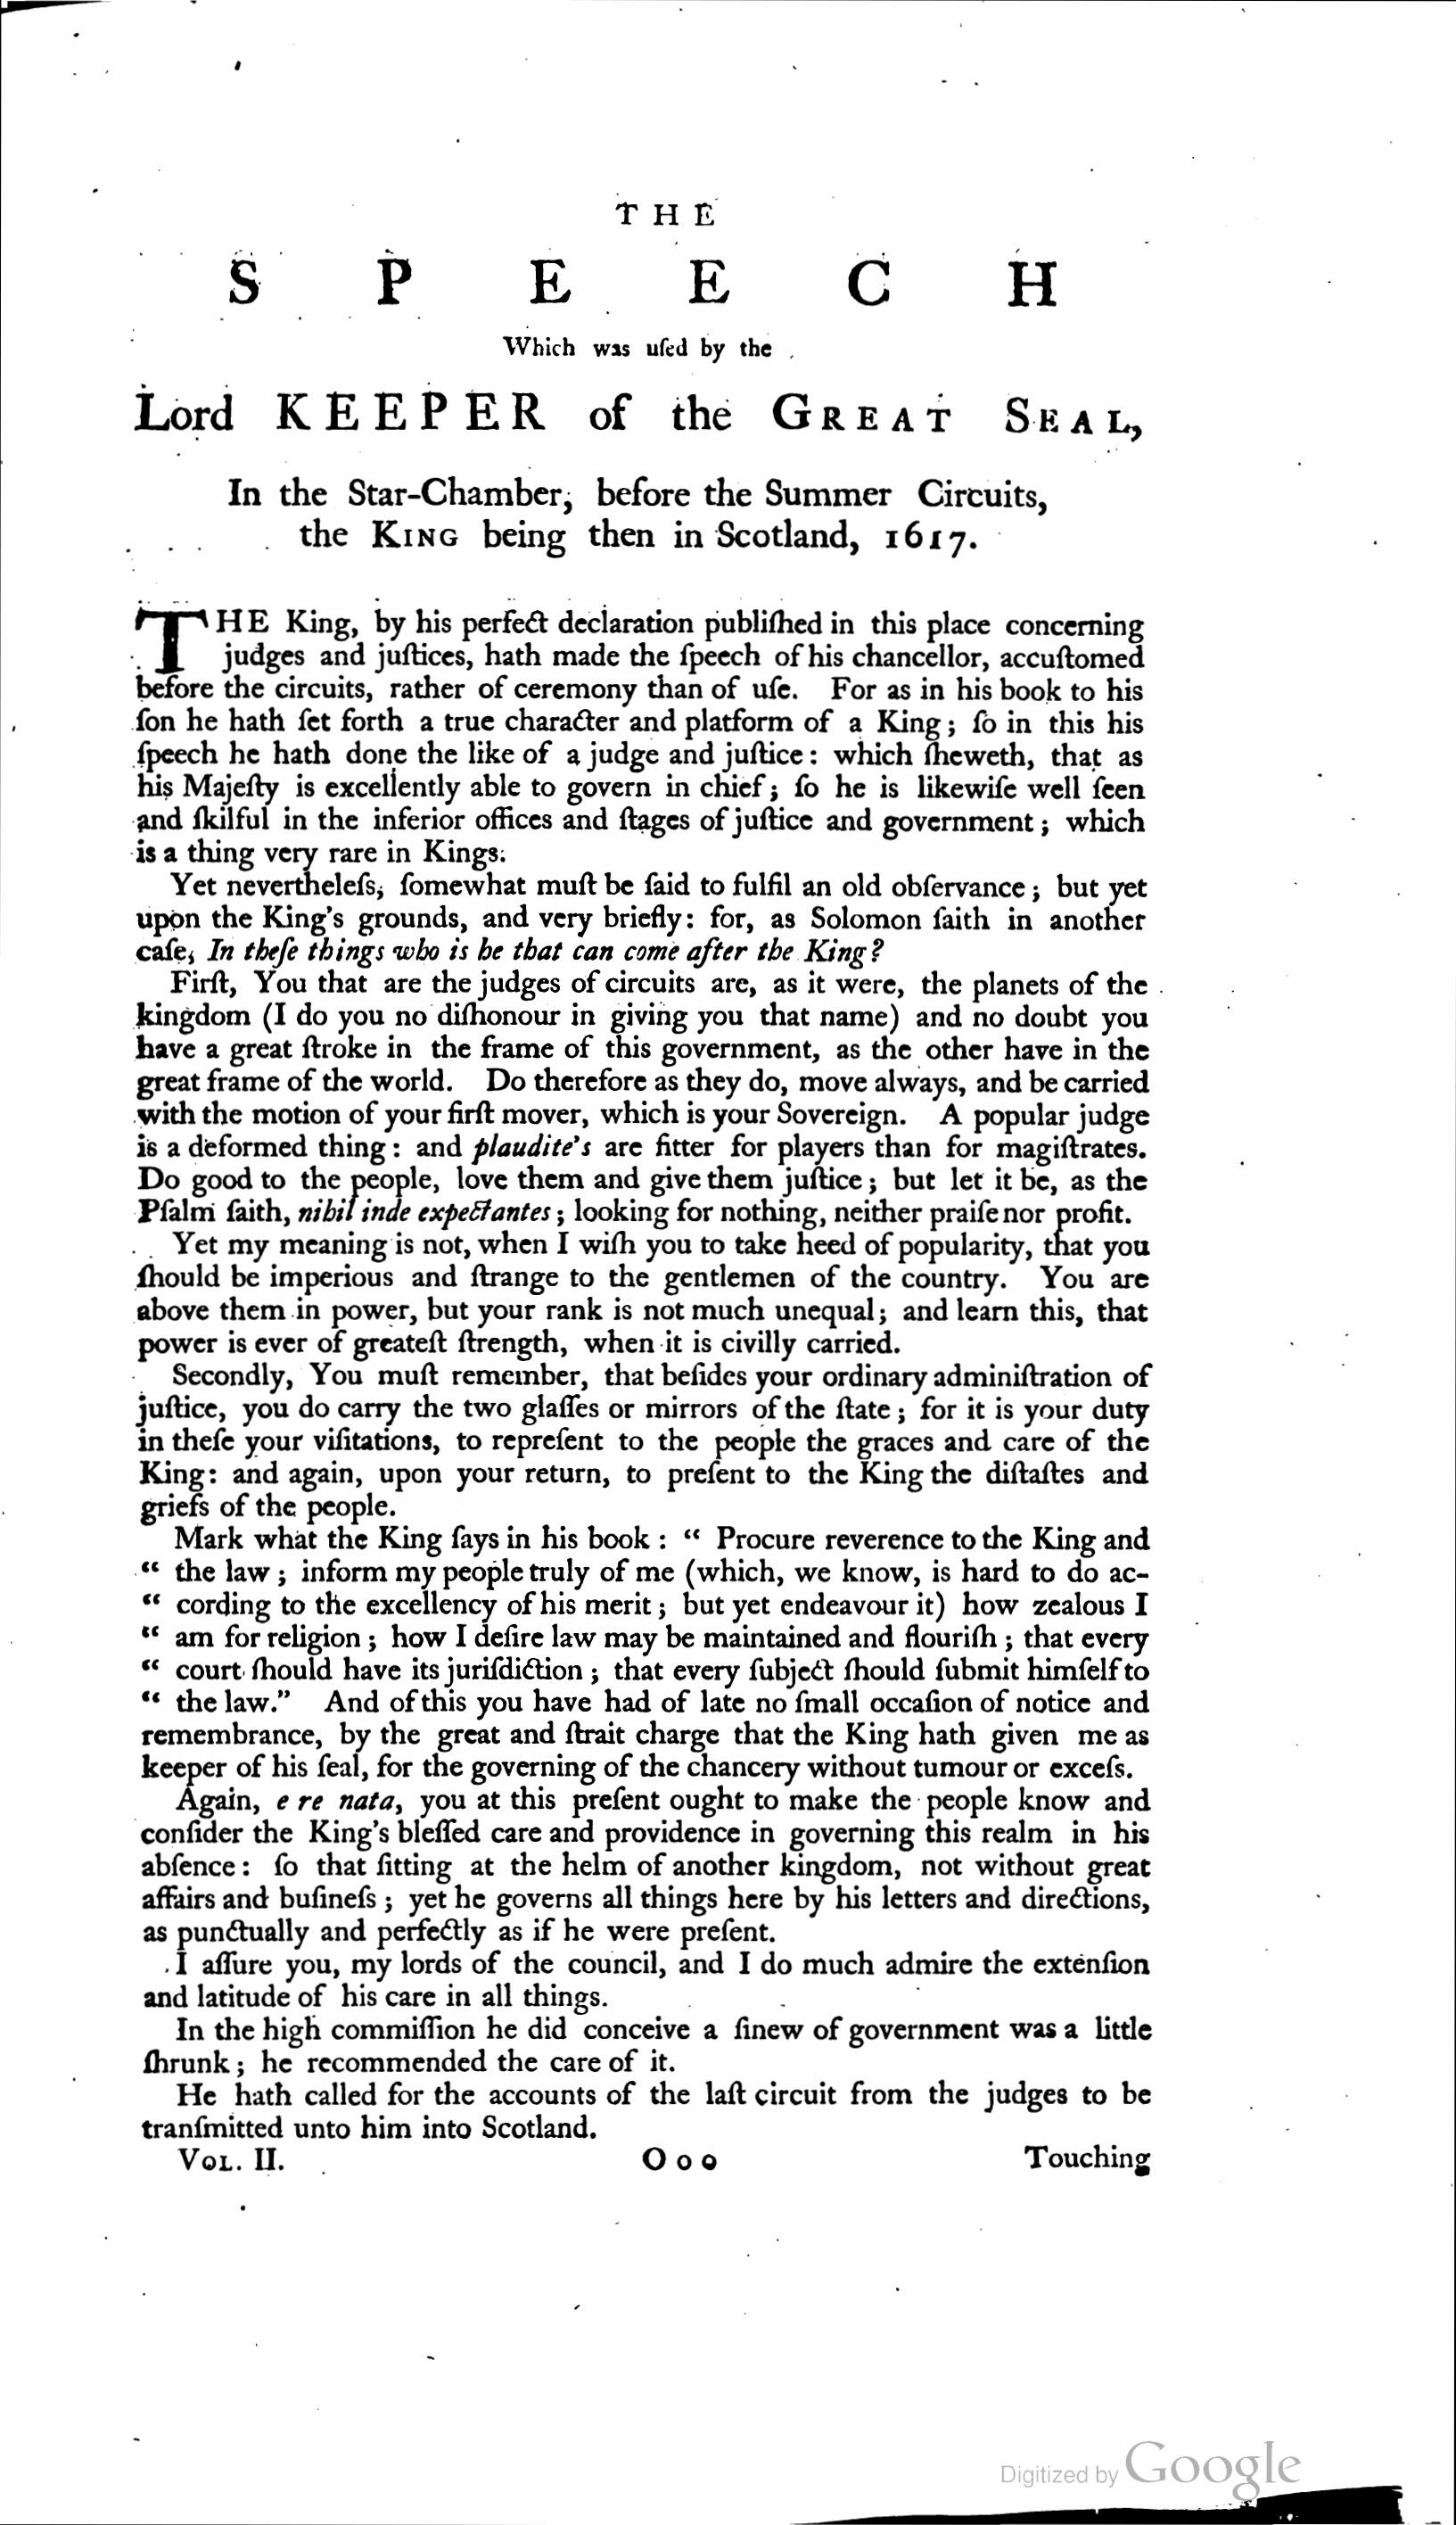catchword: (1021, 2137, 1153, 2178)
full_p: (130, 184, 1153, 560), (130, 865, 1156, 1230), (125, 1226, 1154, 1528), (132, 600, 1153, 874), (132, 1521, 1160, 1783), (137, 1778, 1156, 1949), (140, 2010, 1160, 2079), (139, 1951, 1154, 2019), (140, 2076, 1156, 2138)
initial_l: (132, 597, 211, 676)
signature: (177, 2138, 289, 2176), (643, 2145, 723, 2176)
